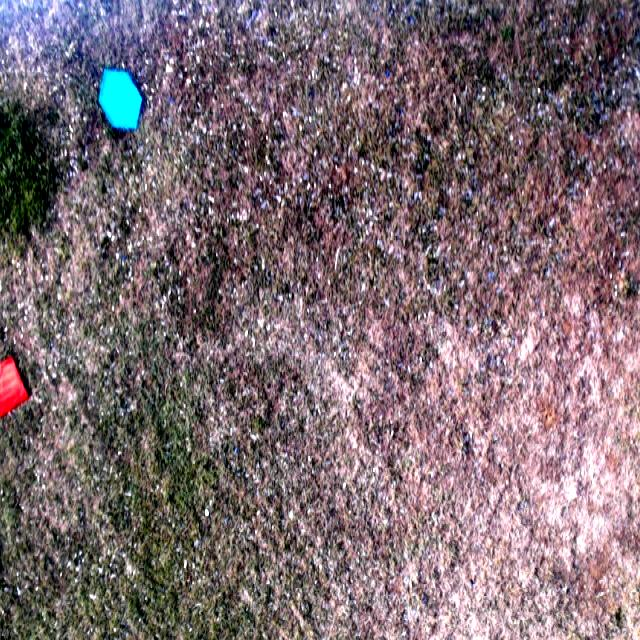blue_hexagon: (99, 68, 142, 130)
